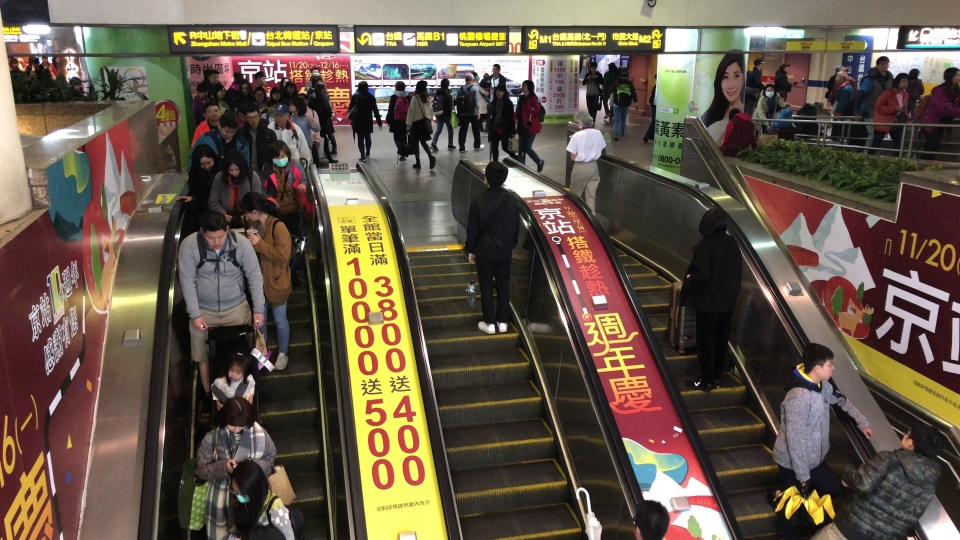person_head: (229, 459, 268, 505), (631, 498, 669, 540), (900, 423, 943, 458), (801, 342, 835, 384), (218, 396, 255, 434), (199, 210, 229, 250), (697, 206, 727, 238), (238, 190, 268, 222), (225, 351, 252, 383), (221, 148, 247, 179), (266, 139, 292, 167), (191, 144, 216, 173), (483, 160, 508, 188), (217, 112, 239, 140), (572, 109, 594, 130), (243, 104, 260, 128), (288, 96, 307, 117), (273, 103, 290, 126), (201, 101, 220, 121), (943, 66, 960, 86), (892, 72, 909, 89), (251, 85, 267, 102), (875, 55, 890, 72), (413, 79, 428, 95), (268, 86, 282, 102), (239, 79, 252, 95), (207, 68, 220, 84), (265, 98, 277, 115), (196, 82, 208, 99), (521, 79, 535, 93), (763, 83, 776, 98), (494, 84, 507, 99), (284, 80, 297, 95), (253, 71, 266, 86), (212, 84, 225, 99), (728, 108, 741, 121), (356, 80, 369, 93), (314, 80, 326, 94), (835, 71, 847, 84), (309, 74, 321, 87), (813, 99, 824, 113), (297, 92, 308, 106), (233, 71, 244, 85), (908, 67, 919, 80), (279, 76, 289, 90), (439, 77, 450, 89), (394, 80, 405, 92), (753, 59, 765, 69), (491, 63, 501, 75), (470, 71, 480, 83), (834, 65, 845, 75), (588, 61, 598, 72), (464, 73, 474, 84), (619, 67, 628, 79), (10, 58, 19, 69), (32, 57, 40, 69), (606, 62, 616, 71), (310, 66, 320, 75), (778, 63, 789, 71), (41, 54, 48, 63), (482, 72, 489, 80)
person_vbox: (772, 342, 875, 540), (177, 209, 266, 417), (807, 423, 943, 540), (677, 206, 743, 392), (194, 396, 277, 540), (464, 160, 522, 335), (238, 190, 294, 370), (259, 138, 308, 287), (226, 458, 295, 540), (564, 109, 606, 218), (208, 148, 262, 227), (174, 144, 225, 227), (917, 66, 960, 160), (852, 55, 893, 153), (187, 112, 250, 175), (867, 72, 910, 157), (183, 101, 221, 182), (266, 103, 311, 171), (404, 79, 436, 171), (513, 79, 544, 173), (236, 103, 277, 174), (347, 80, 382, 161), (210, 351, 256, 410), (308, 80, 339, 164), (603, 67, 638, 141), (486, 84, 519, 162), (306, 74, 337, 156), (455, 72, 485, 153), (306, 66, 336, 143), (385, 79, 412, 162), (429, 78, 456, 151), (718, 107, 757, 156), (751, 83, 790, 131), (297, 91, 321, 168), (288, 95, 320, 150), (483, 63, 505, 133), (792, 99, 828, 138), (582, 60, 603, 126), (834, 71, 854, 138), (826, 65, 857, 107), (743, 58, 765, 115), (470, 71, 489, 136), (642, 72, 657, 143), (601, 62, 618, 119), (907, 67, 924, 117), (774, 63, 791, 112), (192, 82, 208, 128), (212, 84, 230, 116), (260, 97, 277, 125), (39, 55, 58, 80), (478, 72, 494, 101), (251, 86, 268, 113), (252, 70, 269, 96), (8, 57, 25, 78), (229, 71, 244, 91), (31, 57, 44, 79), (578, 54, 590, 76)
